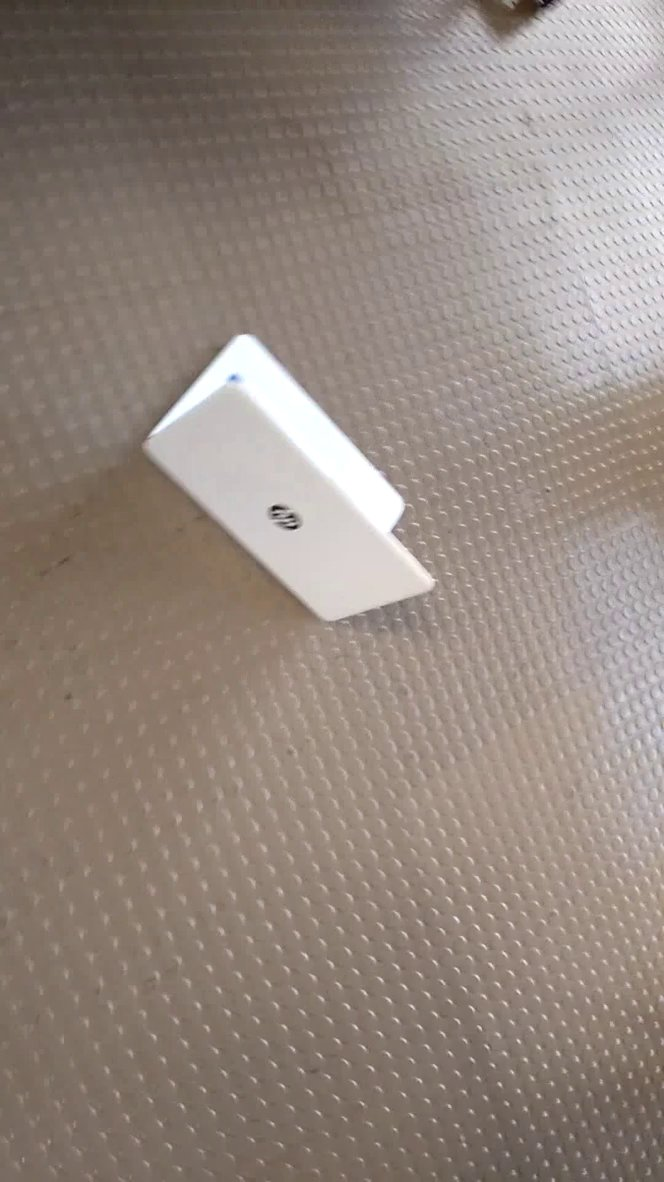laptop: (135, 319, 442, 635)
